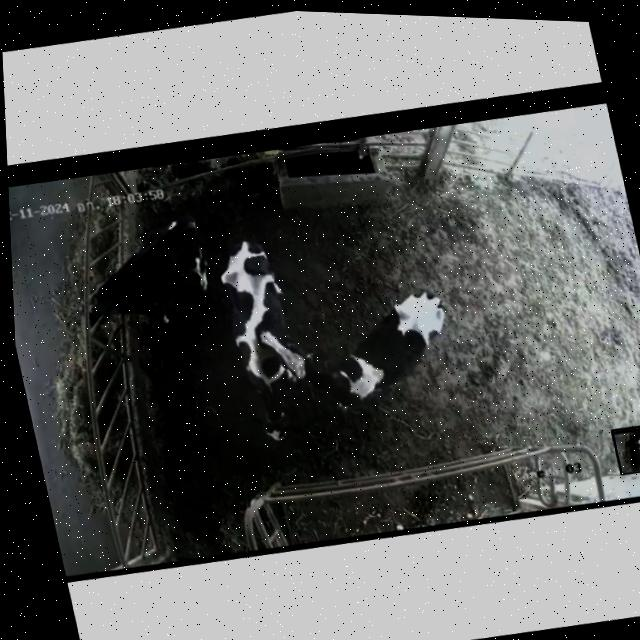propping: (235, 300, 343, 406)
